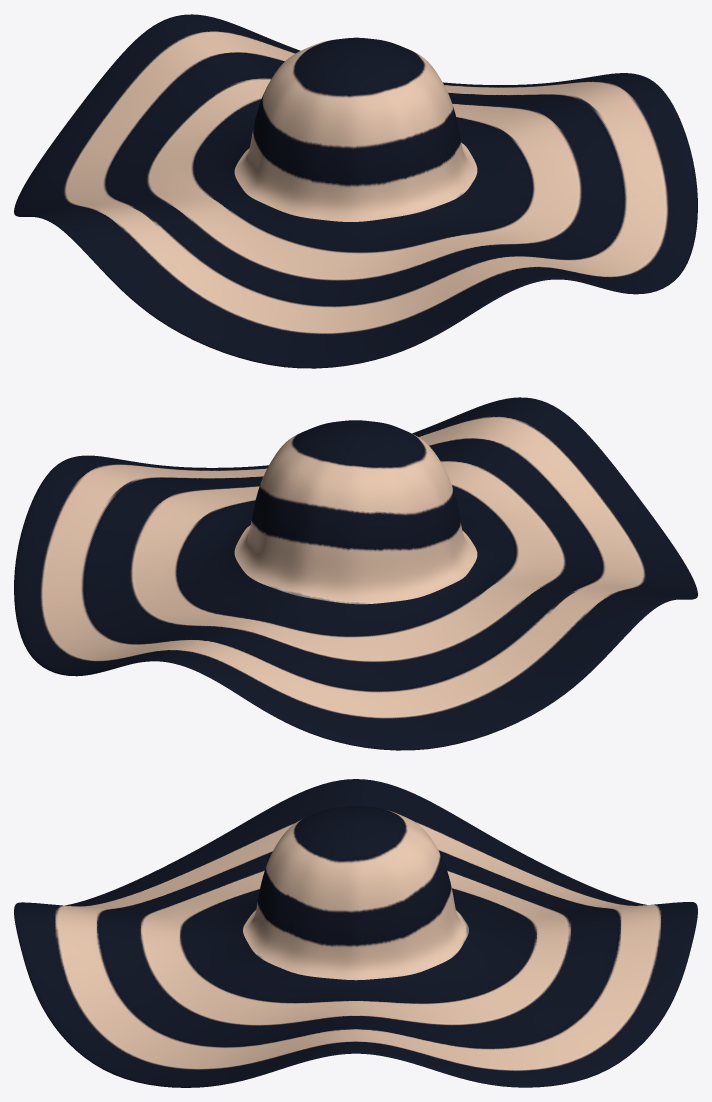
Rendered from hat3.glb.
3 renders of one model, top to bottom at view 1: azimuth 30°, elevation 25°; view 2: azimuth 150°, elevation 25°; view 3: azimuth 270°, elevation 25°, orthographic. The views are drawn at different scales.
Visible parts, largest first — view 1: SunHat; view 2: SunHat; view 3: SunHat.
Boxes of the visible parts, x1,y1,x2,y2 form: SunHat: (14, 14, 697, 368); SunHat: (14, 397, 697, 750); SunHat: (14, 779, 697, 1087).
Size of the model in its own units: 20.92 by 5.9 by 22.02.
1 material, 1 textured.
